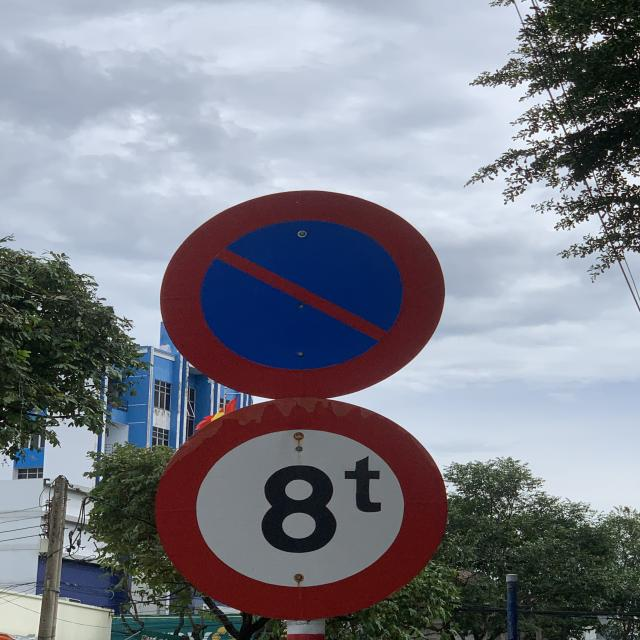Cam_Dau_Xe: (159, 191, 448, 394)
